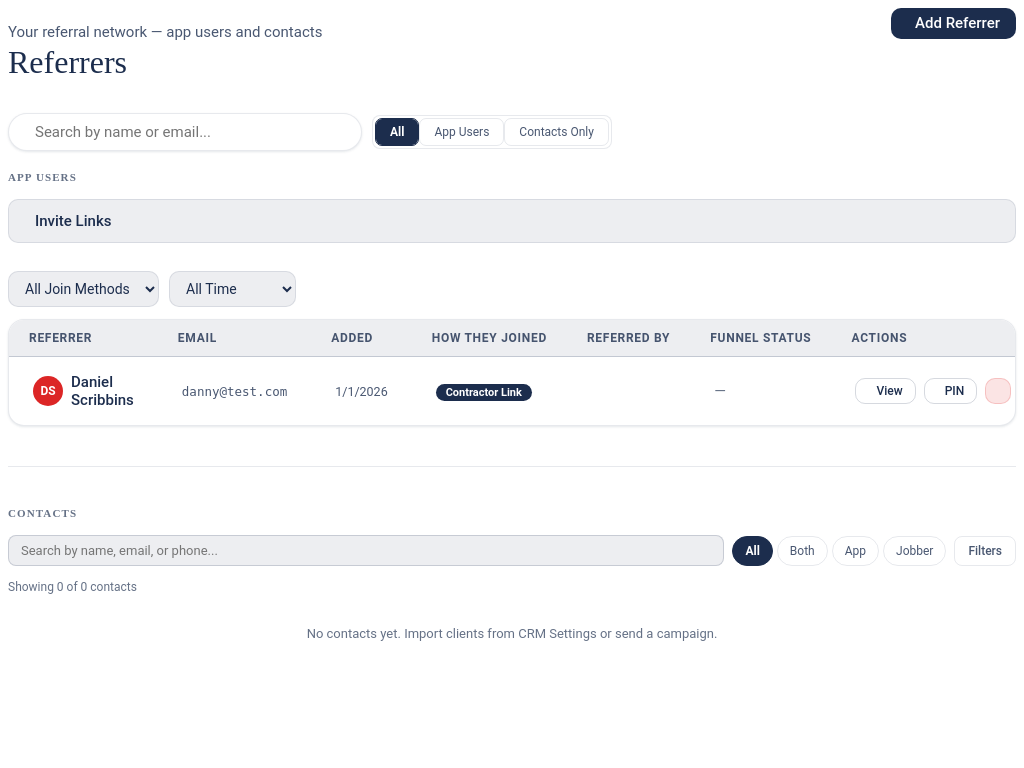
Scenario: payout commit (3c) — the admin panel shows the true negative balance and flags it › ⚠ PAIRED POSITIVE: a HEALTHY balance shows the figure with NO flag
What coordinates should you click on to do the following:
click the button "View"
I would click on:
 (886, 391)
Its box is [856,378,916,404].
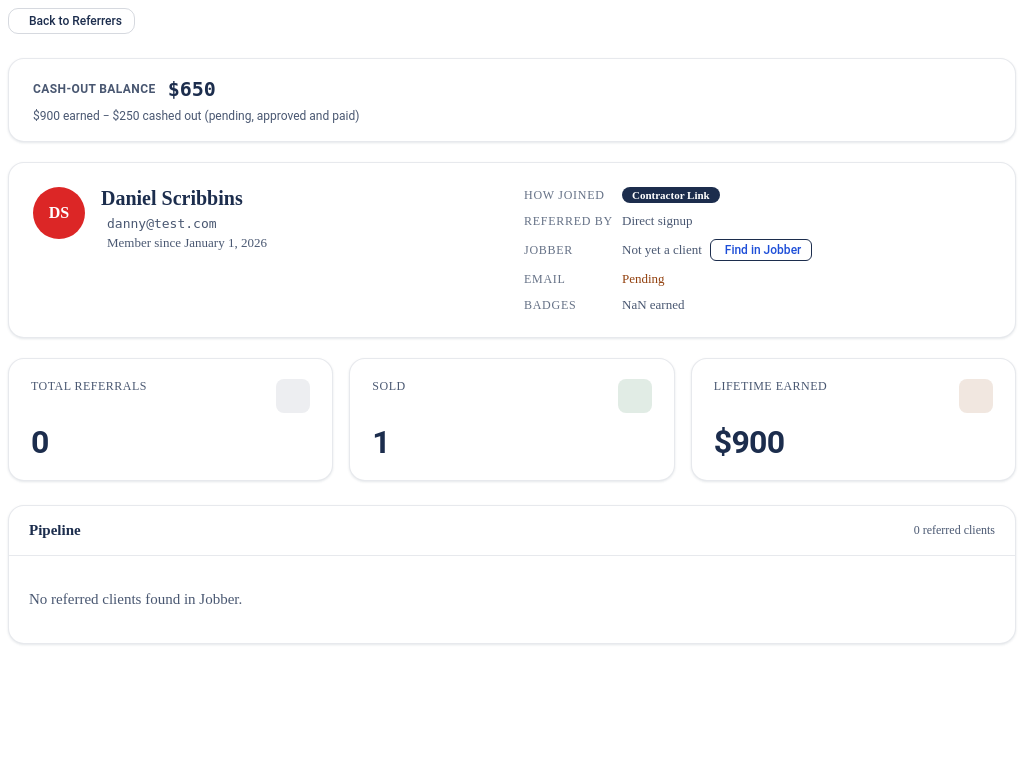
Check: the element that starts with "Cash-out balance" is shown, box [8,58,1016,142]
Check: the text "$650" is shown, box [168,77,216,101]
